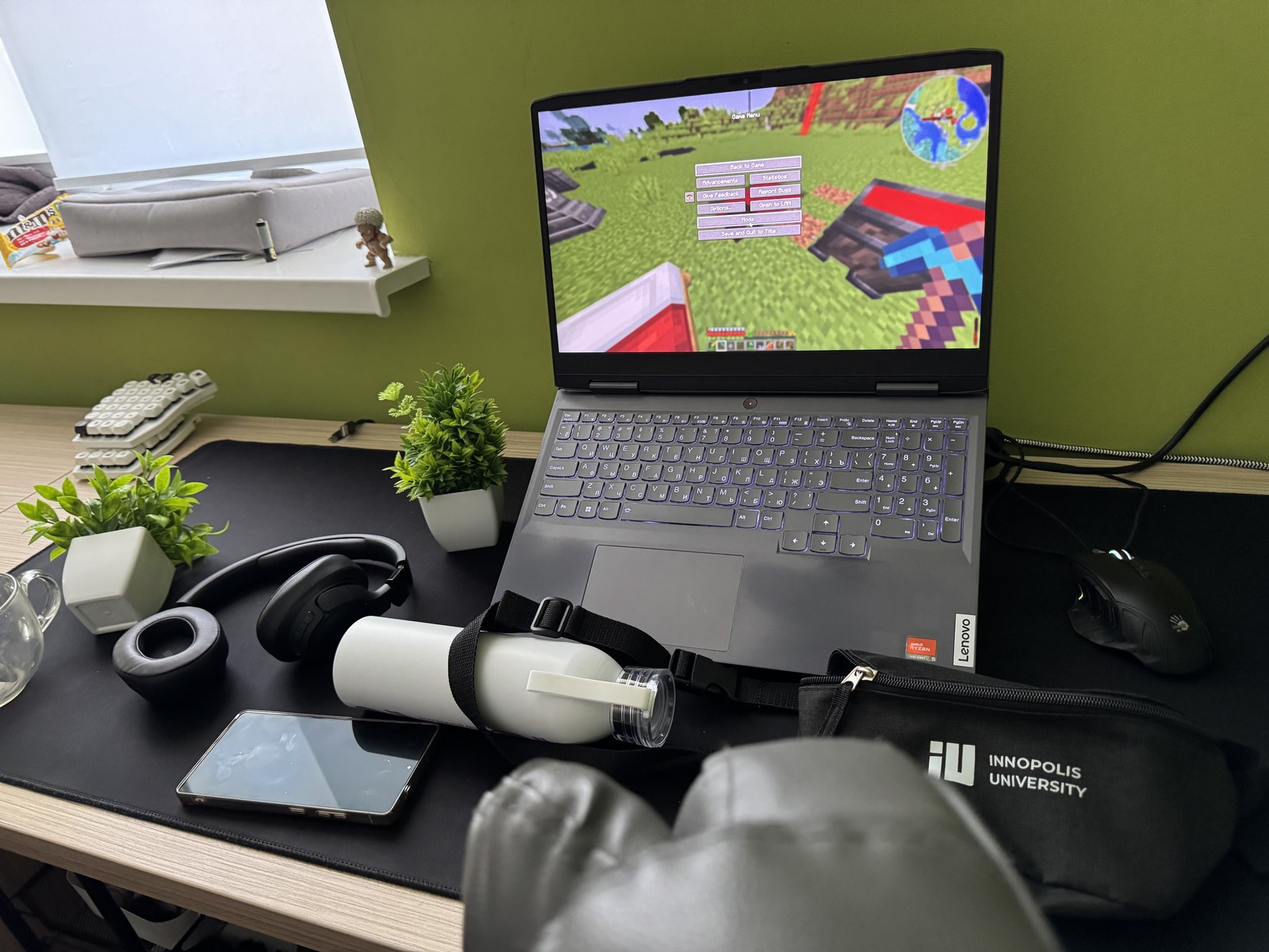cell phone: (175, 708, 441, 827)
laptop: (486, 48, 1003, 680)
